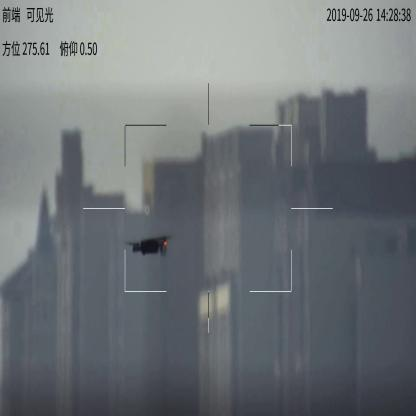uav: (121, 237, 170, 258)
